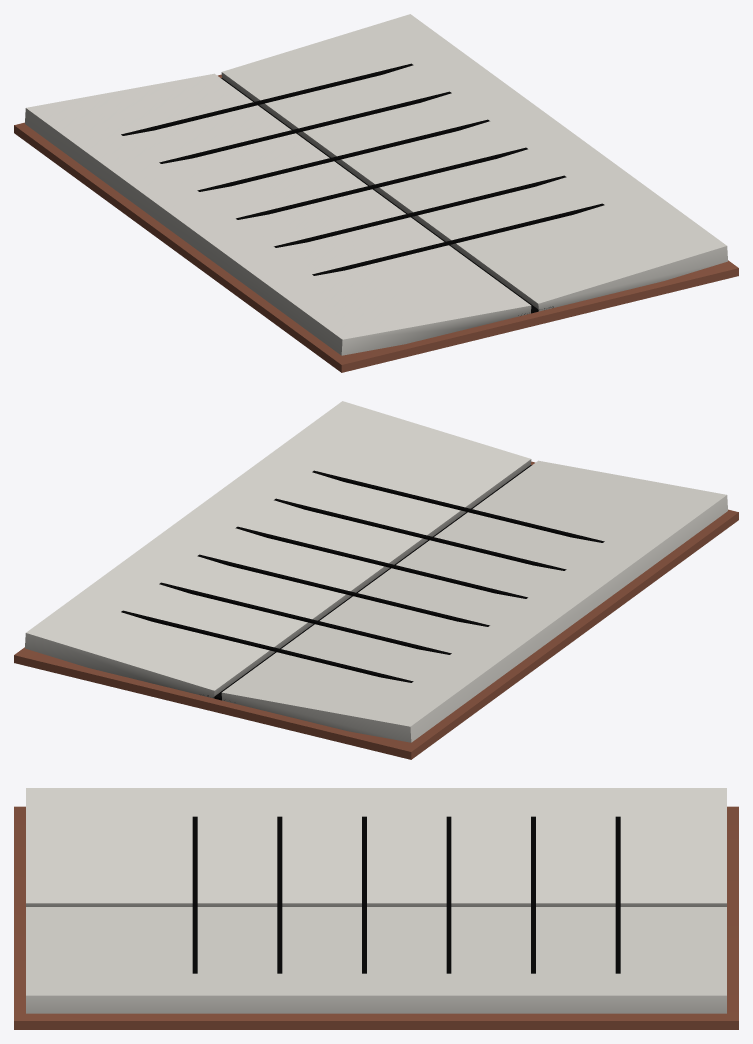
The model's file is notebook_open.glb.
The picture shows the model from 3 angles, top to bottom: view 1: azimuth 30°, elevation 25°; view 2: azimuth 150°, elevation 25°; view 3: azimuth 270°, elevation 25°; orthographic projection. The views are drawn at different scales.
Parts seen in each view (by area): view 1: notebook_open; view 2: notebook_open; view 3: notebook_open.
Part boxes in pixels (x1=…): notebook_open: x1=14, y1=14, x2=738, y2=372; notebook_open: x1=14, y1=401, x2=738, y2=759; notebook_open: x1=14, y1=788, x2=738, y2=1029.
Bounding box in the file's own units: 0.21 × 0.014 × 0.3.
